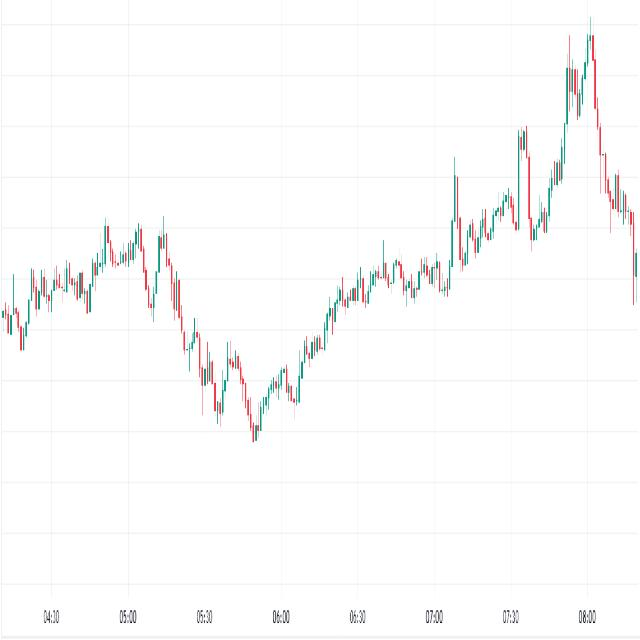Rounding-Bottom: (166, 269, 341, 456)
